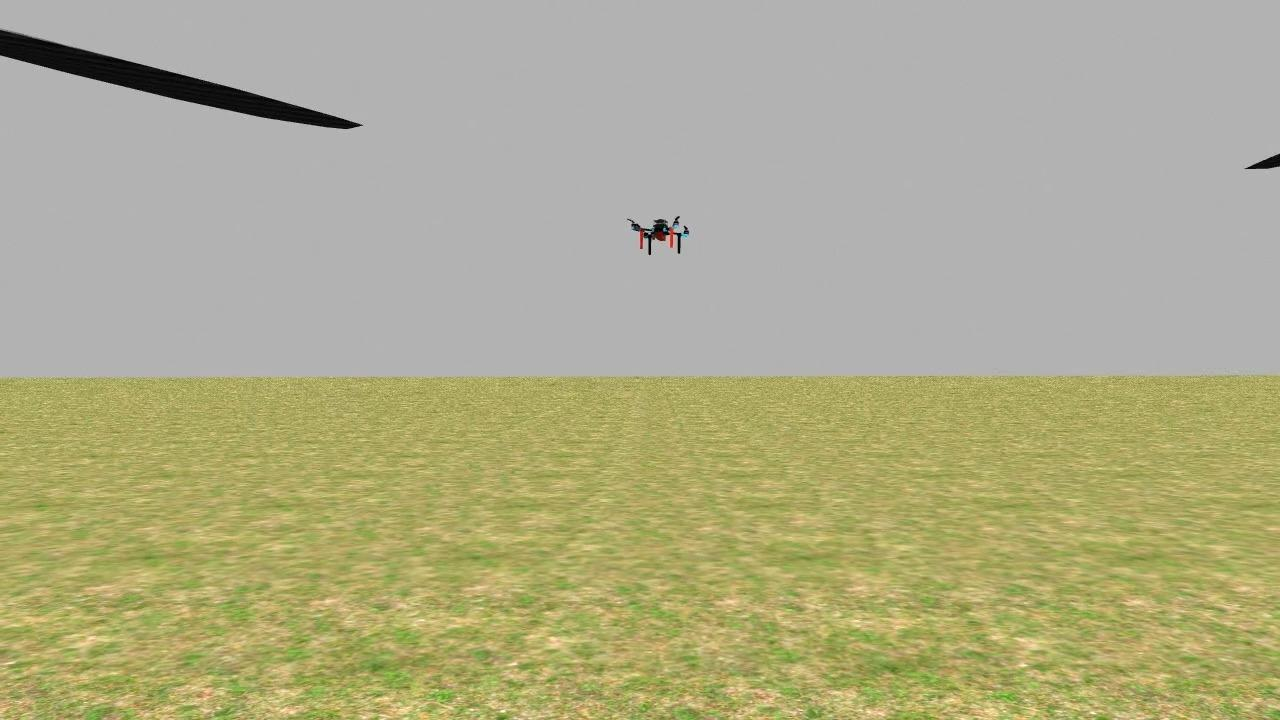UAV: (621, 211, 705, 262)
